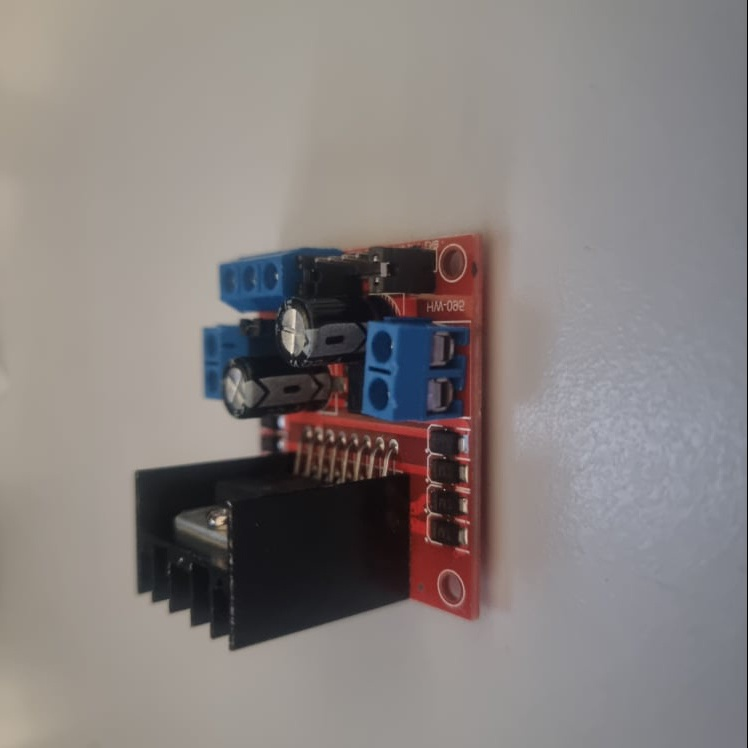MOTOR: (133, 234, 484, 650)
